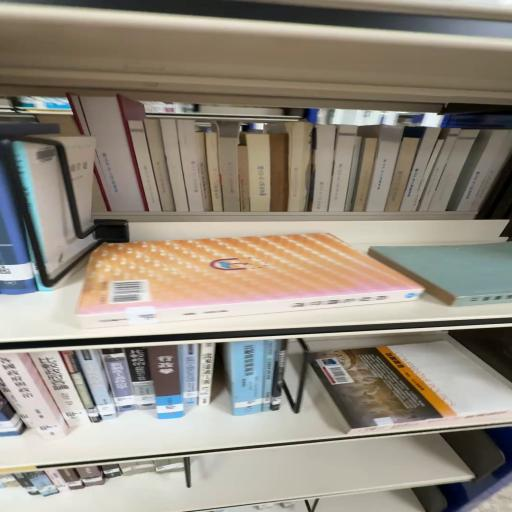flat: (75, 233, 423, 328), (308, 337, 512, 431)
